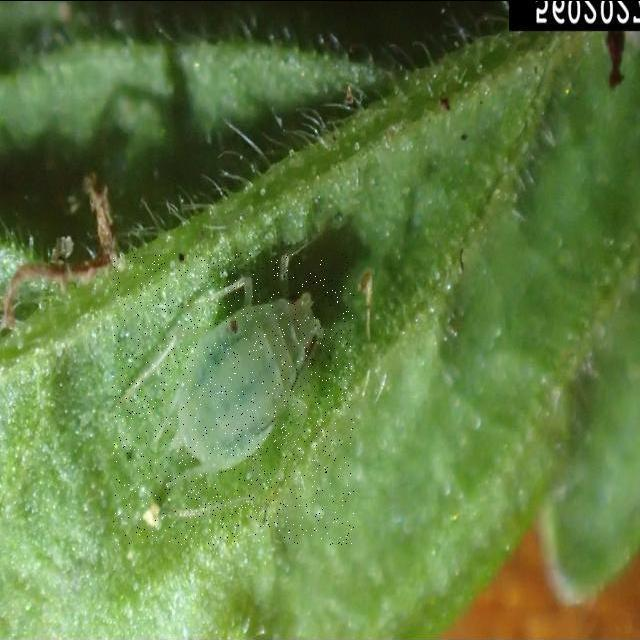aphid: (112, 253, 354, 545)
